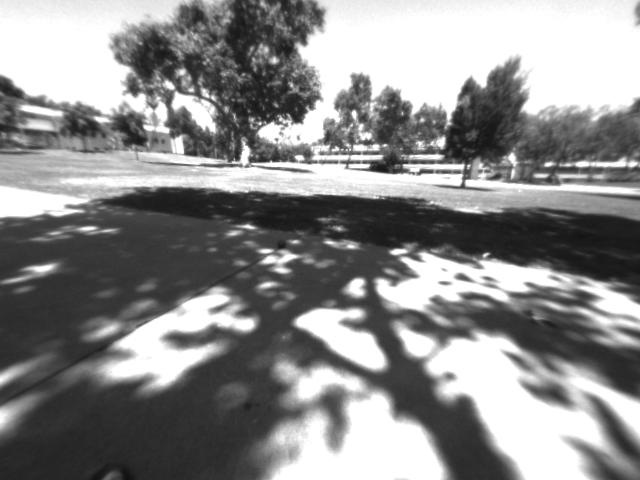dogtoy: (270, 236, 291, 252)
